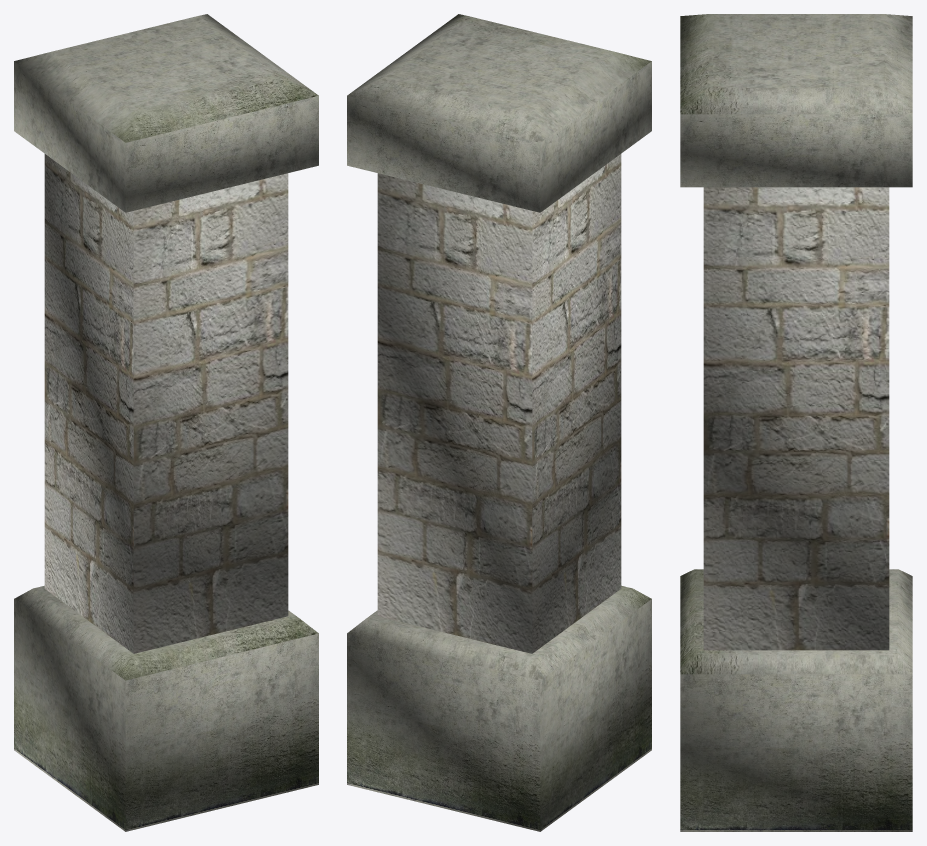
The model's file is Ruin_WallStub.glb.
3 renders of one model, left to right at view 1: azimuth 30°, elevation 25°; view 2: azimuth 150°, elevation 25°; view 3: azimuth 270°, elevation 25°, orthographic. The views are drawn at different scales.
Visible parts, largest first — view 1: RuinWallSementTwo300; view 2: RuinWallSementTwo300; view 3: RuinWallSementTwo300.
Part boxes in pixels (x1,y1,x2,y2): RuinWallSementTwo300: (14,14,318,831); RuinWallSementTwo300: (347,14,651,831); RuinWallSementTwo300: (680,14,912,831).
Bounding box in the file's own units: 0.5183 × 1.8 × 0.5183.
Materials: 2 (2 with a texture image).
